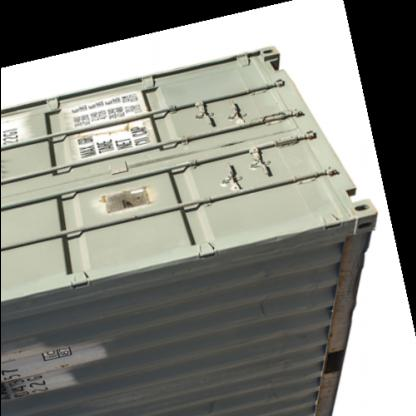Damage: (310, 250, 342, 412)
